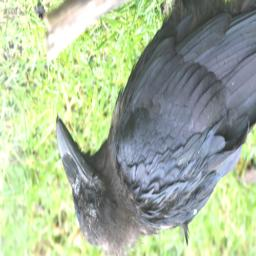Crow: (53, 0, 256, 256)
